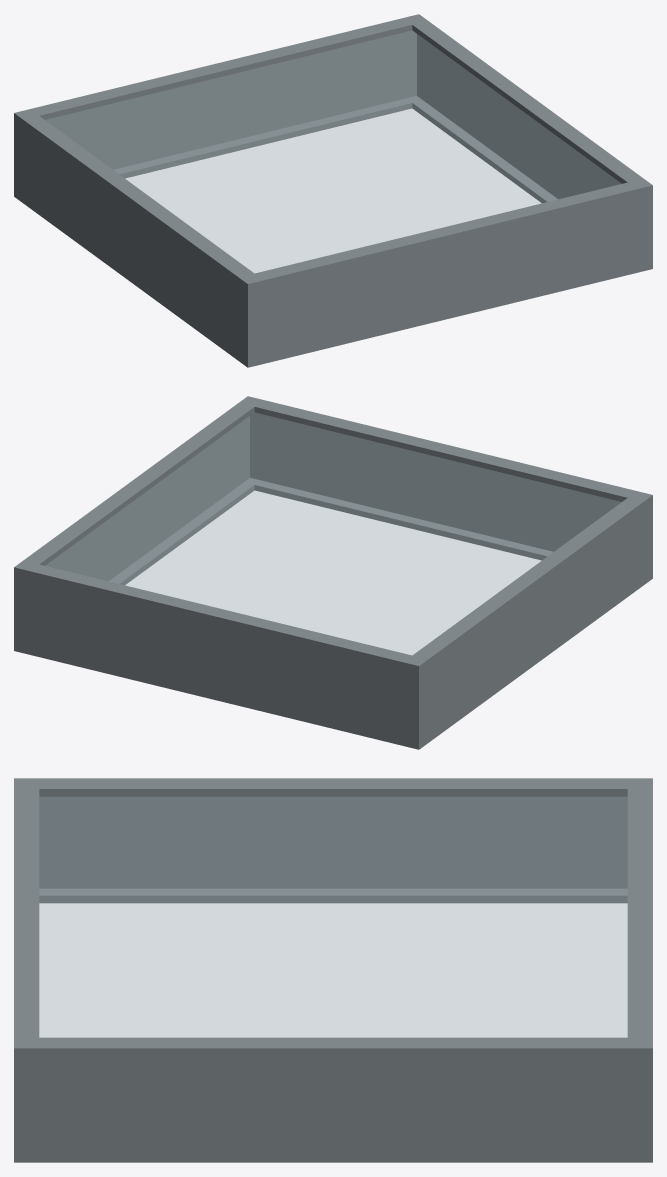
The model's file is reinforced_glass_pane.glb.
The picture shows the model from 3 angles, top to bottom: view 1: azimuth 30°, elevation 25°; view 2: azimuth 150°, elevation 25°; view 3: azimuth 270°, elevation 25°; orthographic projection. The views are drawn at different scales.
Visible parts, largest first — view 1: reinforced_glass_pane:compound; view 2: reinforced_glass_pane:compound; view 3: reinforced_glass_pane:compound.
Boxes of the visible parts, left/top/right/bottom form: reinforced_glass_pane:compound: left=14, top=14, right=652, bottom=367; reinforced_glass_pane:compound: left=14, top=396, right=652, bottom=749; reinforced_glass_pane:compound: left=14, top=778, right=652, bottom=1162.
Size of the model in its own units: 0.304 by 0.06 by 0.304.
